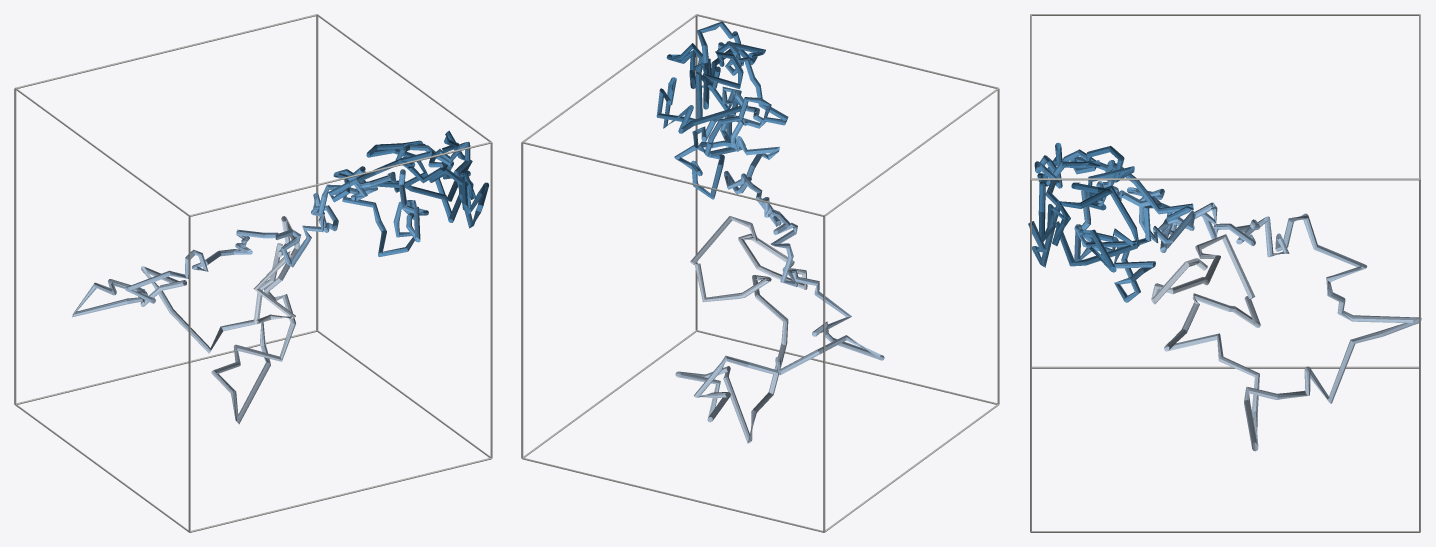
3 views of the same model, side by side, from view 1: azimuth 30°, elevation 25°; view 2: azimuth 150°, elevation 25°; view 3: azimuth 270°, elevation 25° (orthographic). The views are drawn at different scales.
Parts seen in each view (by area): view 1: geometry_0, geometry_1; view 2: geometry_0, geometry_1; view 3: geometry_0, geometry_1.
Part boxes in pixels (x1,y1,x2,y2): geometry_0: (72, 130, 489, 424); geometry_1: (14, 14, 492, 532); geometry_0: (656, 21, 884, 443); geometry_1: (521, 14, 999, 532); geometry_0: (1028, 142, 1421, 451); geometry_1: (1030, 14, 1420, 532).
Size of the model in its own units: 0.3039 by 0.3042 by 0.3037.
